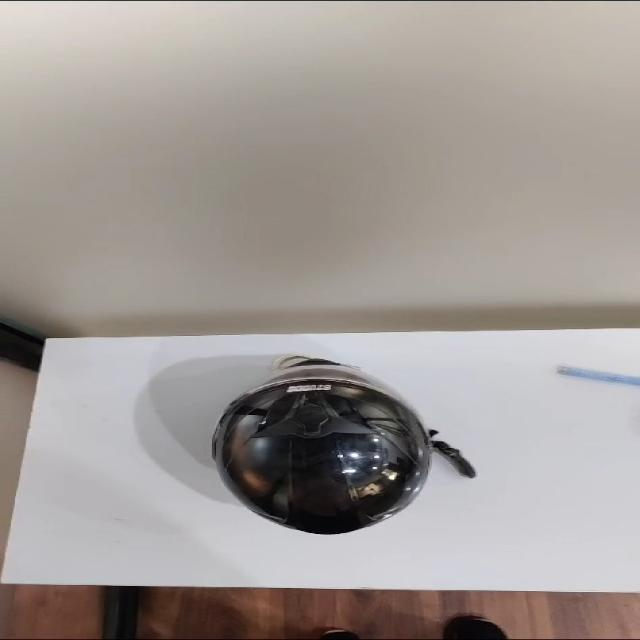helmet: (184, 365, 442, 543)
